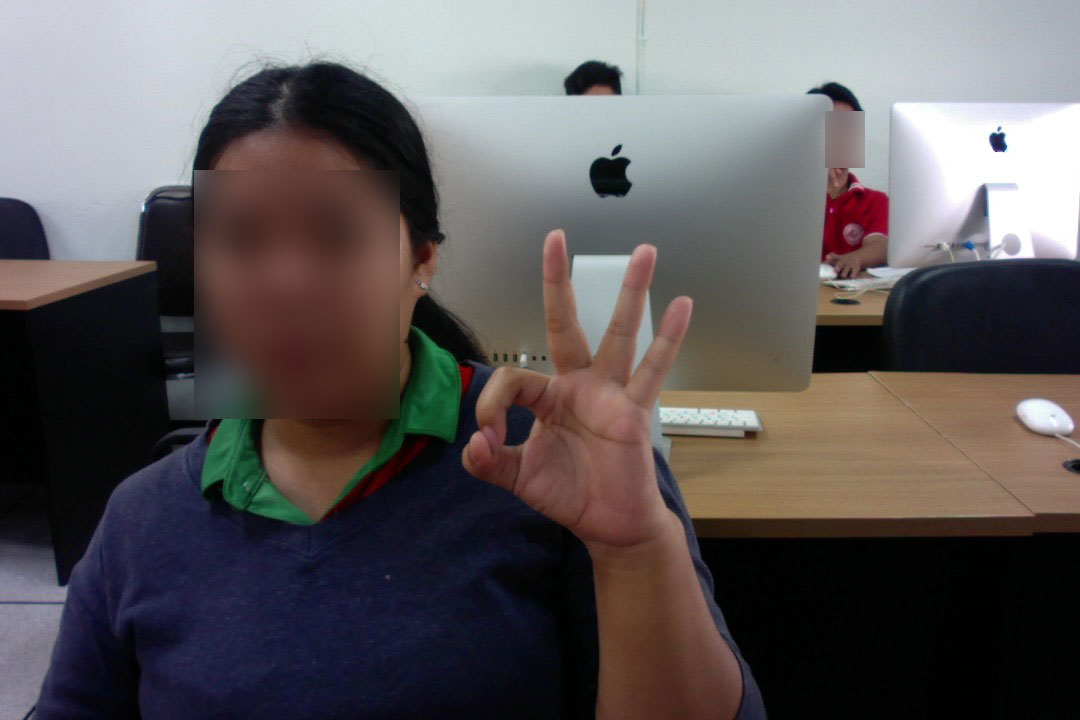for: (448, 220, 717, 539)
